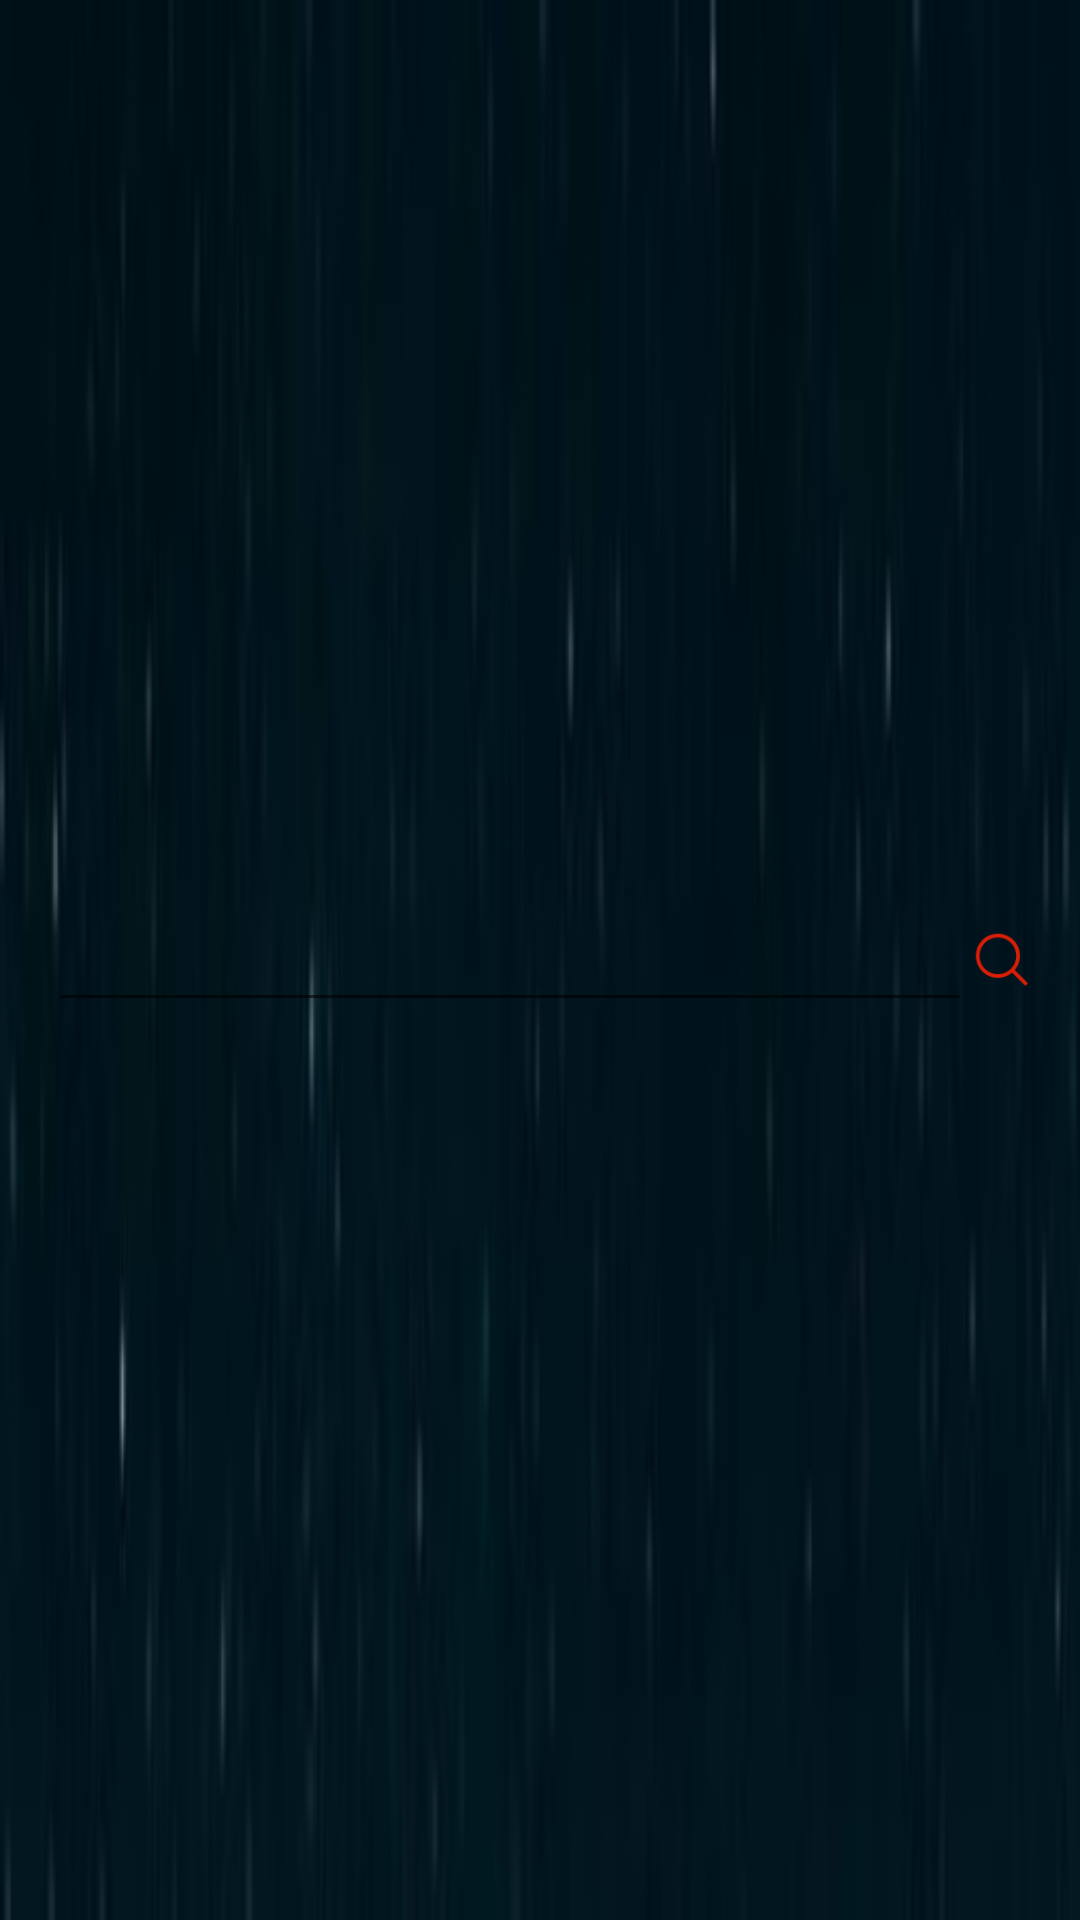

Icons on this 1080px×1920px Android screen, each with the point to tap as point (x, y):
query: point (1001, 959)
